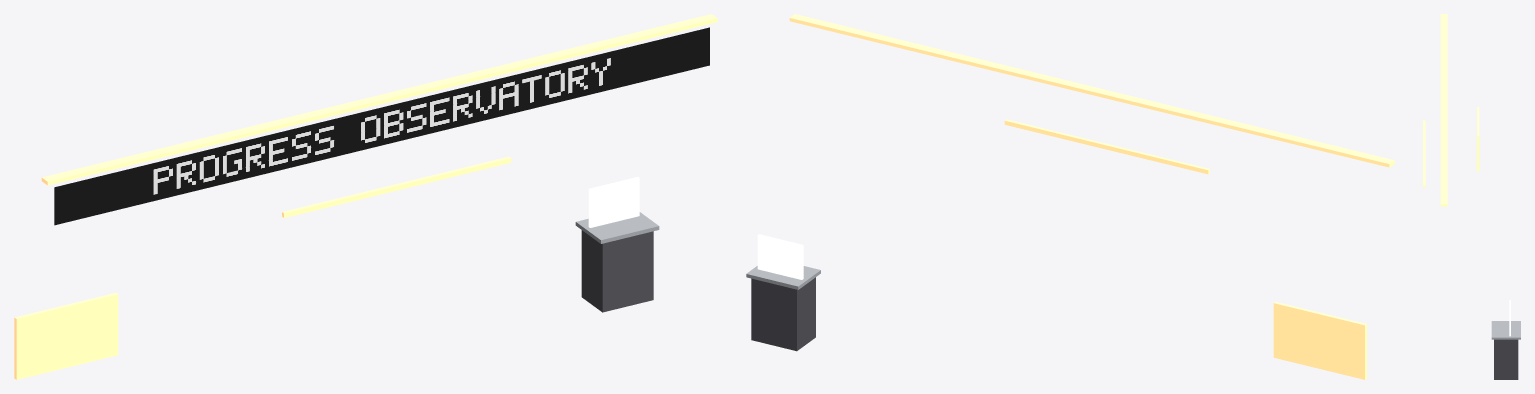
Rendered from room-s24-donatello-dao-5.glb.
The picture shows the model from 3 angles, left to right: view 1: azimuth 30°, elevation 25°; view 2: azimuth 150°, elevation 25°; view 3: azimuth 270°, elevation 25°; orthographic projection. The views are drawn at different scales.
Visible parts, largest first — view 1: Donatello DAO Progress Observatory room; view 2: Donatello DAO Progress Observatory room; view 3: Donatello DAO Progress Observatory room.
Part boxes in pixels (x1=…): Donatello DAO Progress Observatory room: x1=14, y1=14, x2=717, y2=379; Donatello DAO Progress Observatory room: x1=746, y1=14, x2=1394, y2=379; Donatello DAO Progress Observatory room: x1=1423, y1=14, x2=1520, y2=379.
Bounding box in the file's own units: 9.2 × 4.08 × 2.
5 materials, 1 textured.
